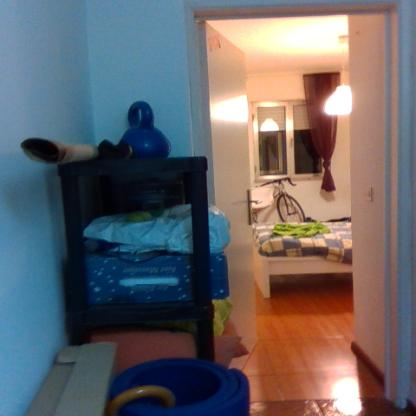open: (180, 0, 416, 411)
